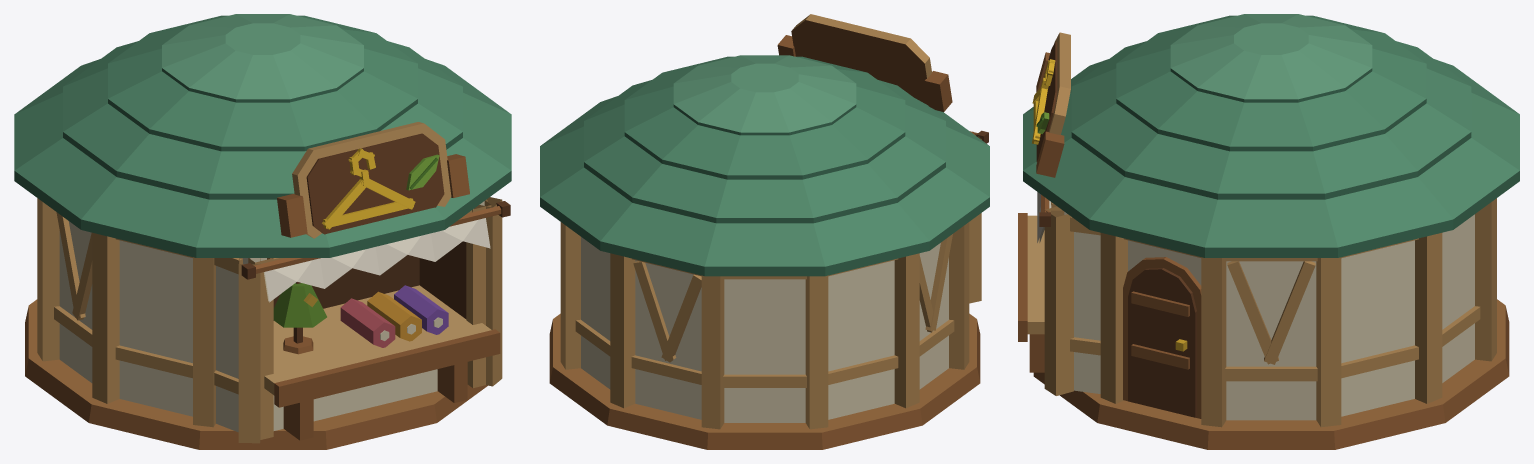
File: tailors_nook.glb
The picture shows the model from 3 angles, left to right: view 1: azimuth 30°, elevation 25°; view 2: azimuth 150°, elevation 25°; view 3: azimuth 270°, elevation 25°; orthographic projection. The views are drawn at different scales.
Visible parts, largest first — view 1: tailors_nook; view 2: tailors_nook; view 3: tailors_nook.
Part boxes in pixels (x1,y1,x2,y2): tailors_nook: (14,14,511,449); tailors_nook: (540,14,989,449); tailors_nook: (1018,14,1519,449).
Bounding box in the file's own units: 2.57 × 1.77 × 2.59.
